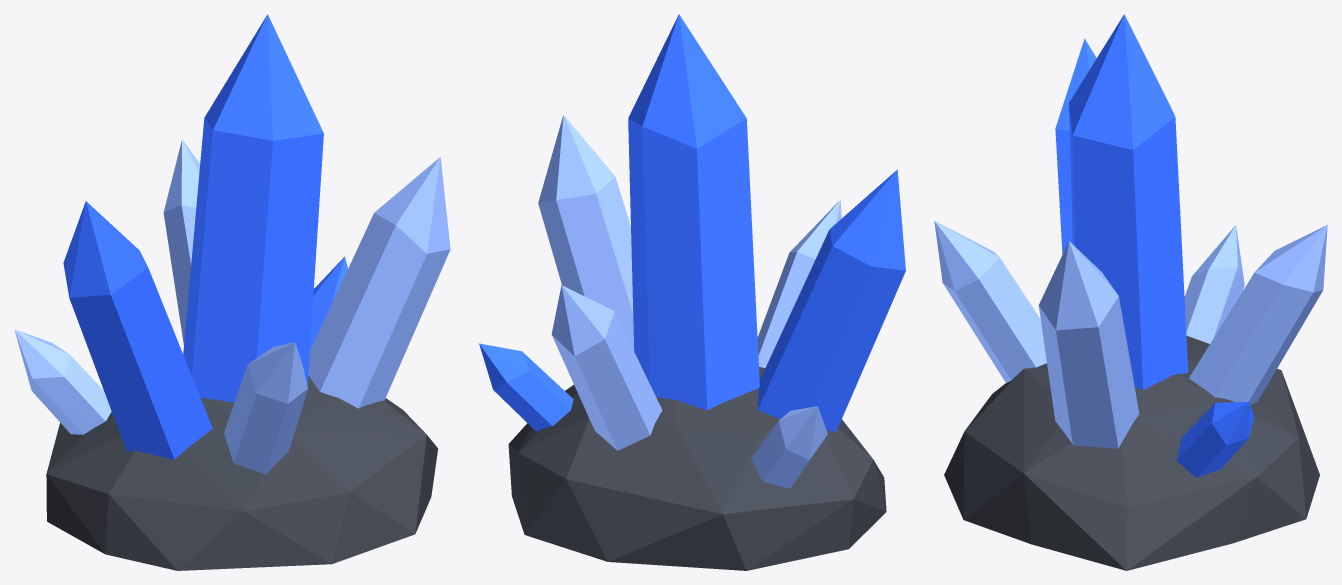
File: crystal.glb
The picture shows the model from 3 angles, left to right: view 1: azimuth 30°, elevation 25°; view 2: azimuth 150°, elevation 25°; view 3: azimuth 270°, elevation 25°; orthographic projection.
Visible parts, largest first — view 1: CrystalDeep, Rock, CrystalIce; view 2: CrystalDeep, Rock, CrystalIce; view 3: Rock, CrystalIce, CrystalDeep.
Boxes of the visible parts, <box> form: CrystalDeep: <box>63,14,347,459</box>; Rock: <box>46,376,438,570</box>; CrystalIce: <box>14,139,450,474</box>; CrystalDeep: <box>479,14,905,431</box>; Rock: <box>508,367,886,570</box>; CrystalIce: <box>538,115,841,488</box>; Rock: <box>944,336,1319,570</box>; CrystalIce: <box>934,221,1327,448</box>; CrystalDeep: <box>1055,14,1254,477</box>.
Bounding box in the file's own units: 0.2819 × 0.333 × 0.2505.
